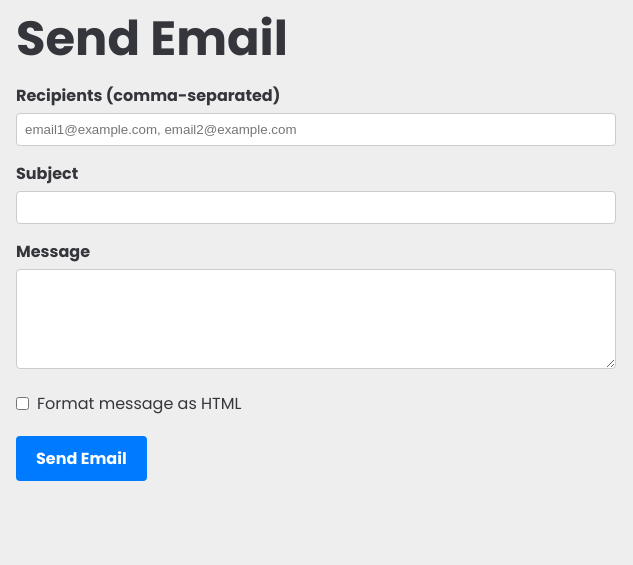
Test: EmailForm › submits parsed recipients and html_message when checkbox is selected
This screenshot has width=633, height=565.
Type "a@example.com, b@example.com" into the field labelled "Recipients (comma-separated)" at (316, 130), box [16,113,616,146]
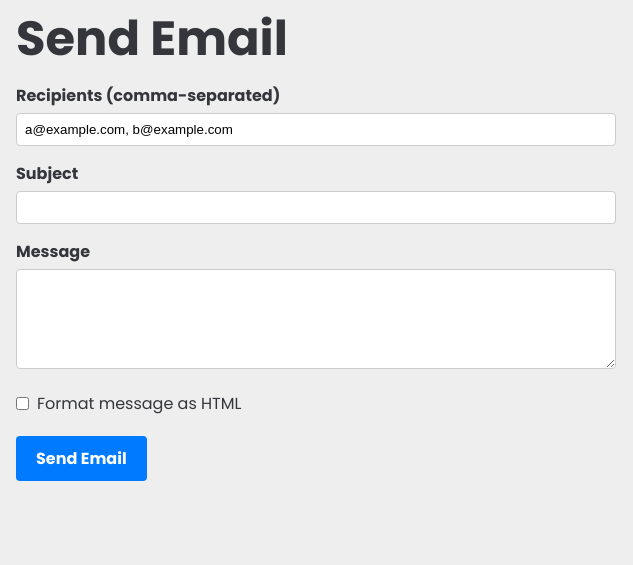
Type "Hello" into the field labelled "Subject" at (316, 208), box [16,191,616,224]
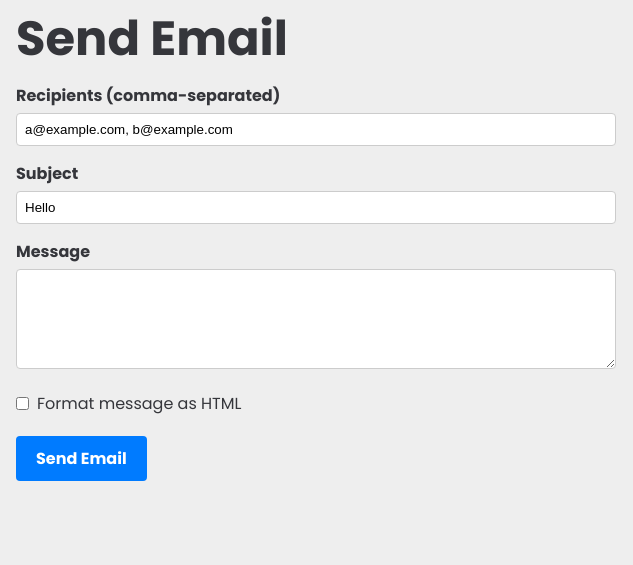
Type "<b>Body</b>" into the text box labelled "Message" at (316, 319), box [16,269,616,369]
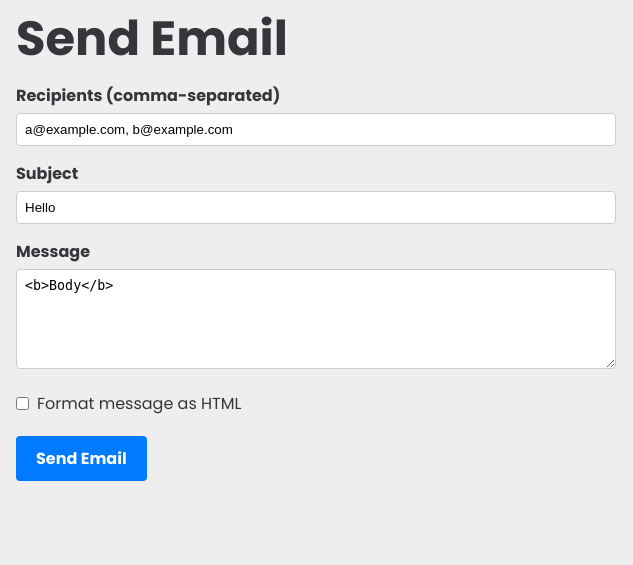
Click the checkbox labelled "Format message as HTML" at (22, 404), box [16,397,29,410]
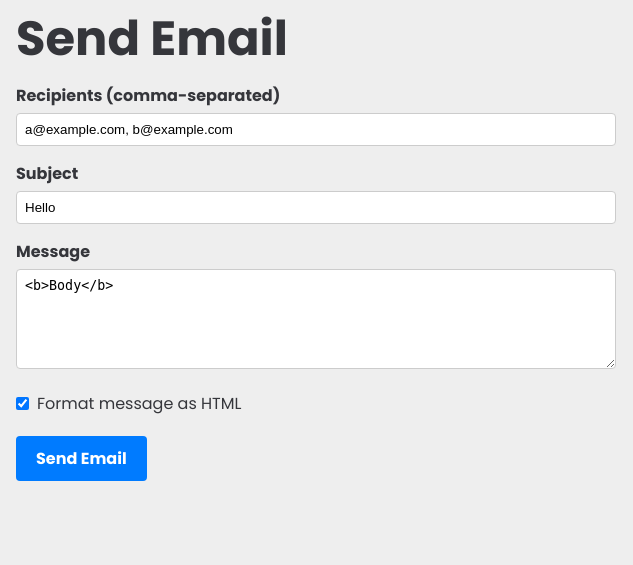
Submit the form
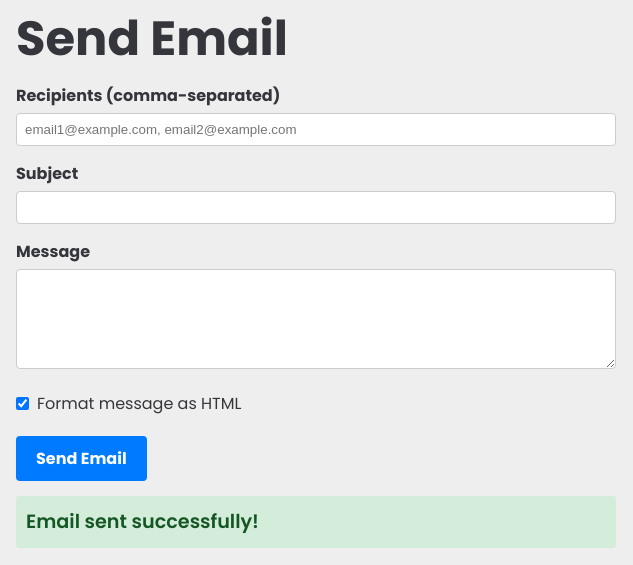
Expected: the text "Email sent successfully!" is shown, [16,496,616,548]
